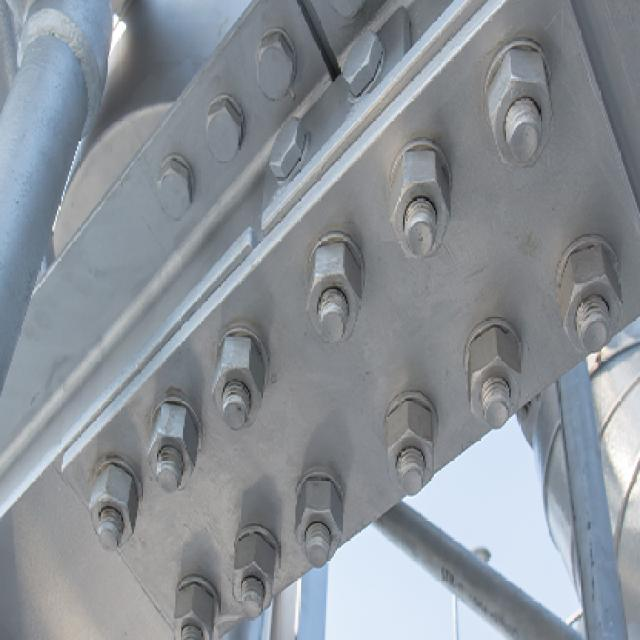Regular bolt: (551, 236, 634, 362), (481, 43, 564, 168), (302, 233, 371, 351), (459, 325, 533, 435), (207, 333, 281, 436), (390, 150, 455, 263), (380, 397, 447, 505), (135, 398, 200, 497), (225, 519, 281, 621), (295, 470, 352, 569), (79, 464, 146, 547), (156, 579, 224, 640)
